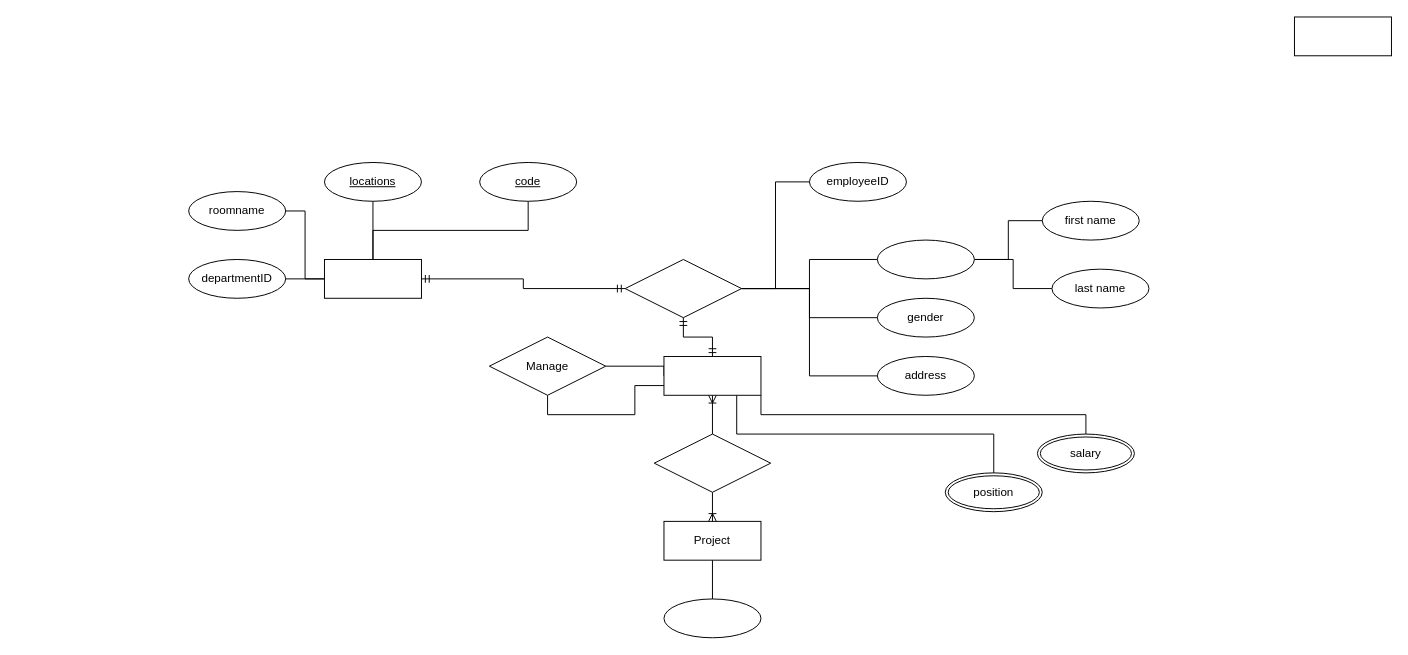
Some shapes in this 1408 by 655 pixel diagram are drawn without their labels. The shapes that lost their labels are listed below. From the top down, each one's box as (x1, y1, x2, y2) in pixels, then its label:
(1293, 16, 1391, 56): Salaries
(323, 259, 421, 298): department
(876, 239, 974, 279): fullname
(624, 259, 742, 318): record
(663, 356, 761, 395): employees
(653, 433, 771, 492): participate
(663, 598, 761, 638): week working time
